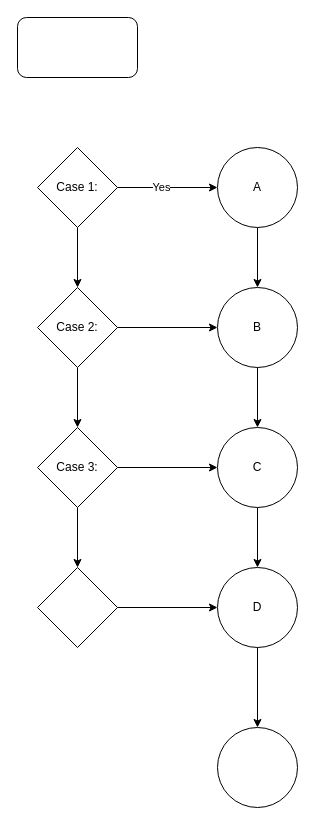
Some shapes in this 315 by 825 pixel diagram are drawn without their labels. The centre of each missing label's shape, as x and y in pixels:
"Break;" goes at point 257,767.
"Case 4:" goes at point 77,607.
"START" goes at point 77,47.
